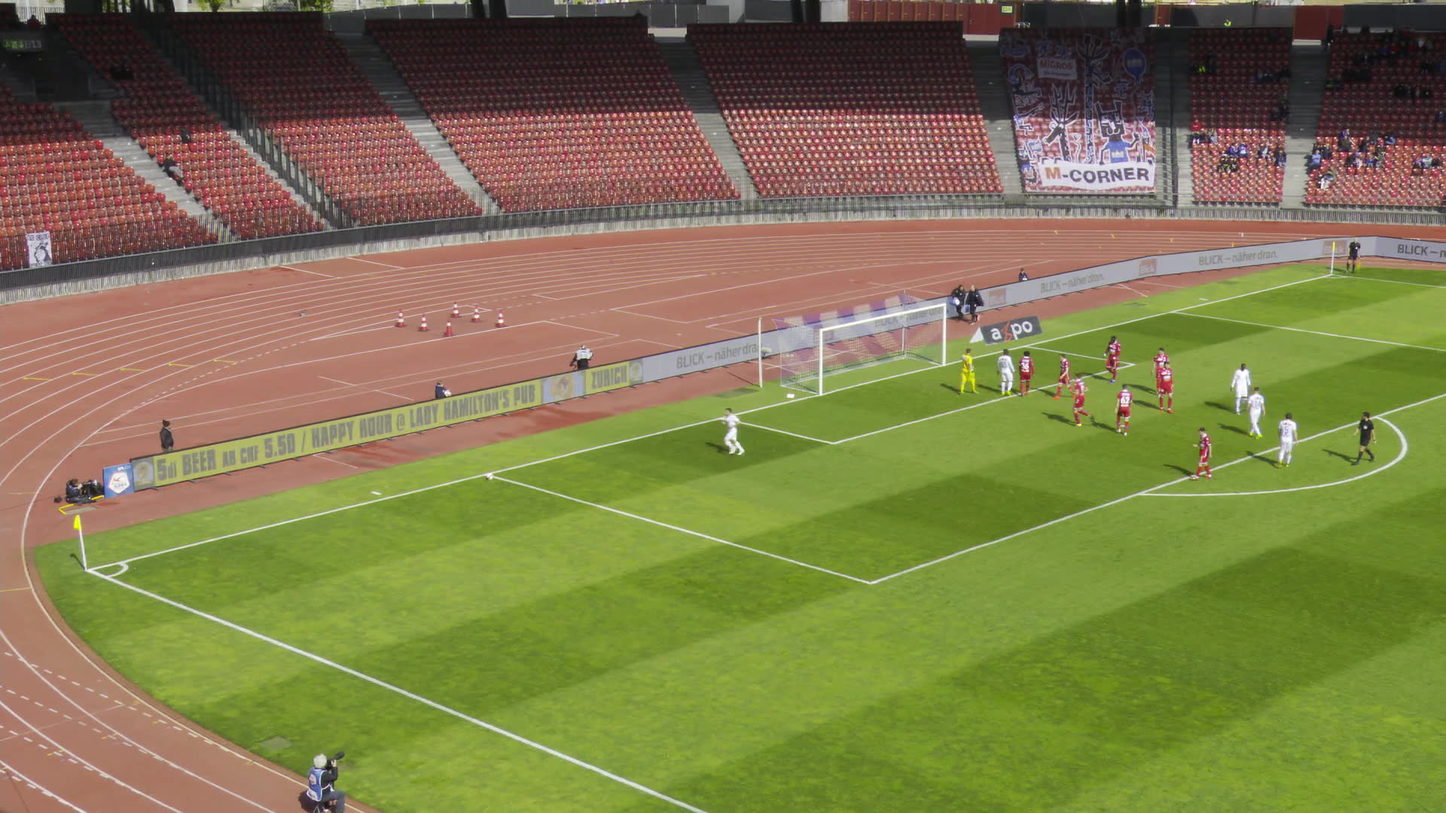ball: (486, 473, 493, 480)
player: (1070, 371, 1097, 428), (720, 409, 750, 456), (1246, 386, 1271, 440), (1275, 412, 1298, 468), (1230, 362, 1251, 416), (1113, 384, 1133, 437), (1194, 427, 1213, 480), (997, 349, 1017, 397), (1054, 352, 1073, 398), (1103, 336, 1122, 382), (1158, 361, 1174, 413), (1018, 350, 1034, 397), (959, 347, 975, 394), (1151, 347, 1168, 388)
referee: (1355, 407, 1377, 464), (1346, 237, 1361, 273)
